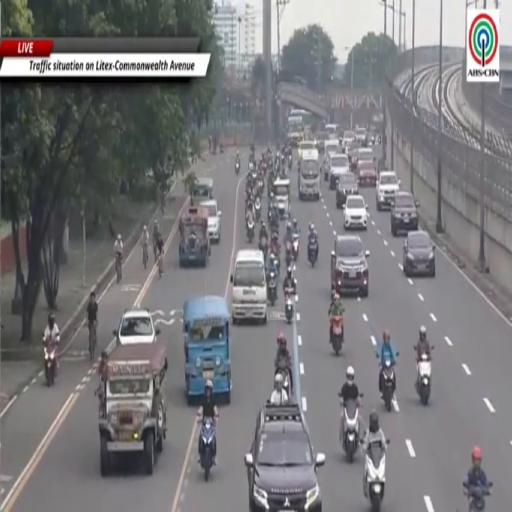car: (245, 404, 325, 511), (331, 235, 369, 296), (113, 309, 160, 345), (403, 231, 435, 277), (391, 191, 419, 236), (376, 171, 401, 211), (200, 200, 221, 243), (336, 172, 359, 209), (343, 196, 367, 230), (328, 153, 349, 189), (351, 148, 375, 171), (357, 160, 377, 187), (298, 141, 316, 159), (316, 132, 328, 153), (342, 131, 355, 149), (355, 127, 366, 145)
jeepney: (99, 342, 167, 475), (183, 296, 232, 404), (179, 206, 211, 267), (274, 179, 290, 218), (192, 178, 213, 203)
motorcycle: (364, 442, 386, 511), (340, 400, 359, 462), (200, 418, 215, 481), (463, 482, 492, 511), (416, 354, 431, 405), (43, 342, 58, 388), (382, 359, 395, 411), (276, 358, 291, 397), (330, 315, 344, 356), (285, 287, 294, 324), (268, 270, 277, 306), (269, 251, 279, 278), (269, 208, 279, 233), (308, 242, 318, 266), (259, 236, 267, 261), (246, 219, 254, 243), (292, 234, 299, 261), (254, 197, 261, 221), (285, 240, 291, 266), (258, 178, 264, 194), (235, 162, 240, 174), (288, 155, 292, 170)
